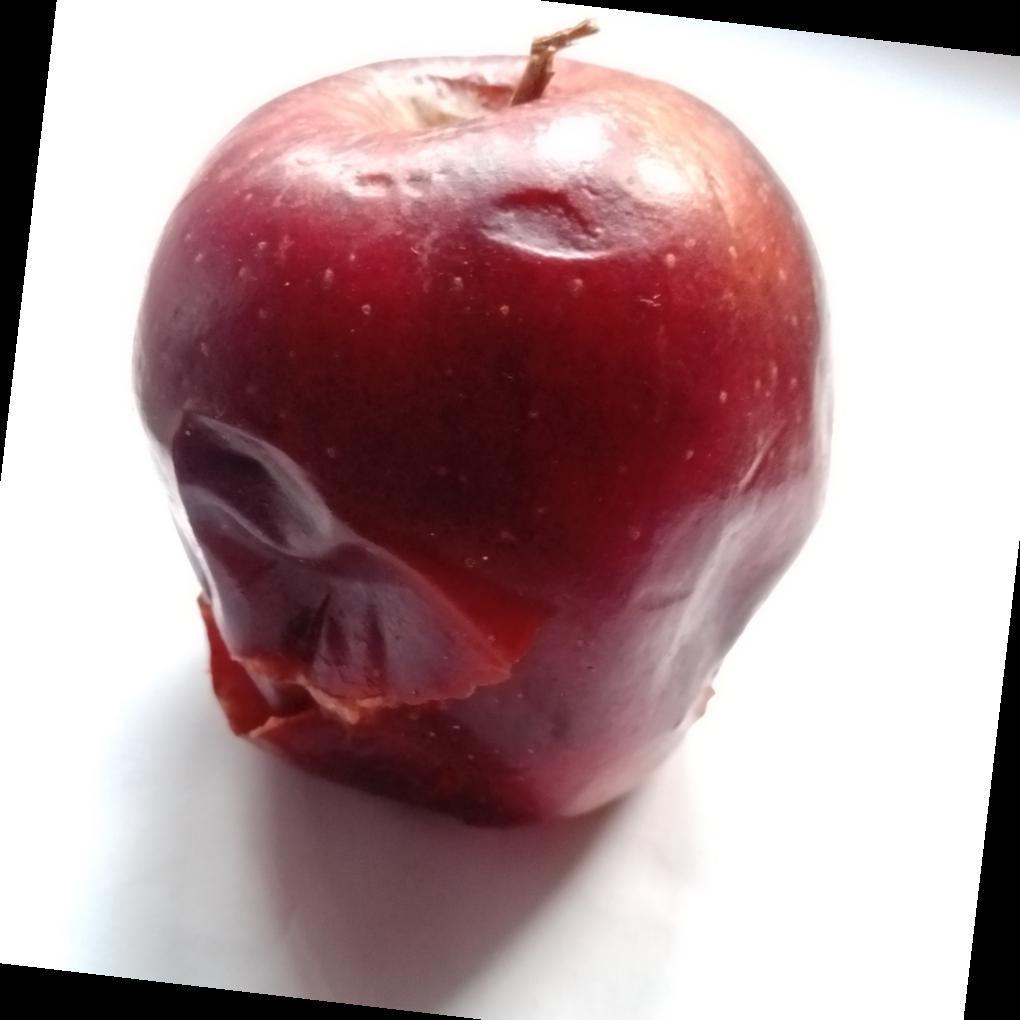FreshOrange: (131, 34, 836, 831)
